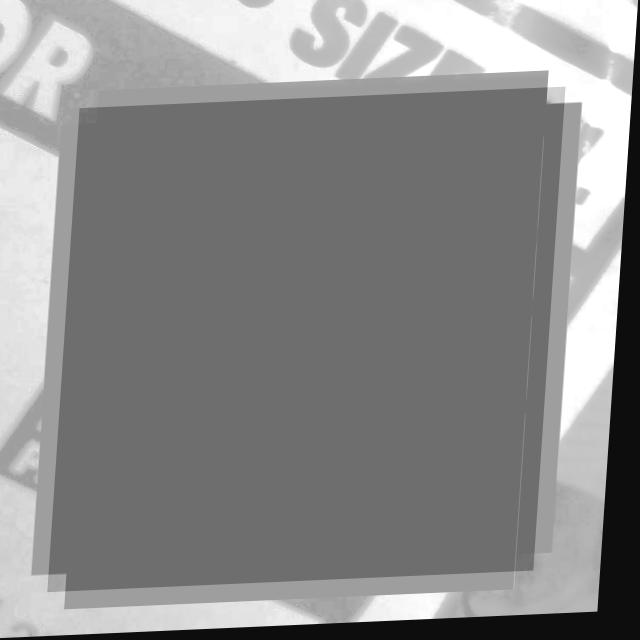qr_code: (56, 92, 567, 593)
